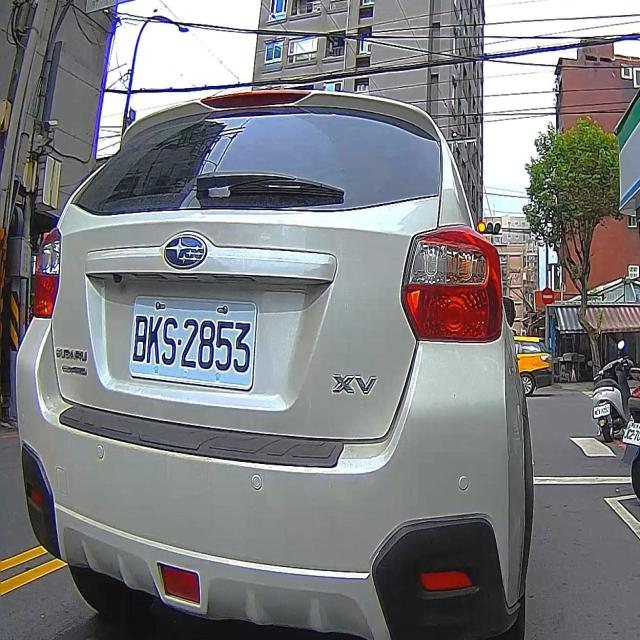license-plate: (128, 291, 256, 392)
